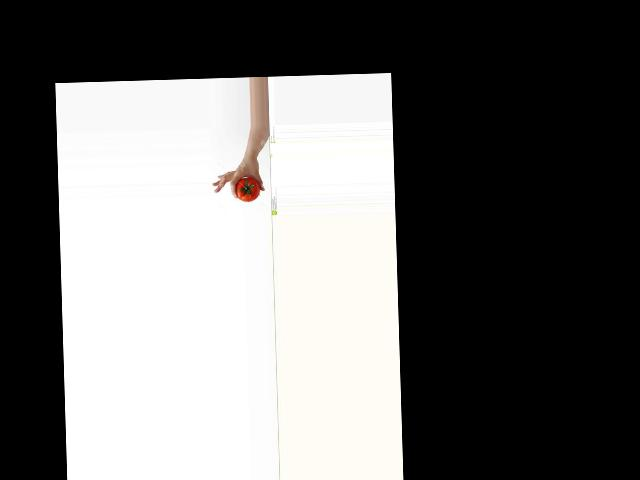tomato: (235, 176, 260, 202)
